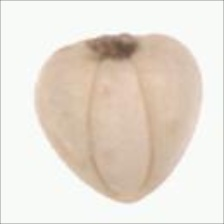L5: (86, 60, 153, 204), (85, 31, 143, 61)
L6: (33, 32, 204, 204)
